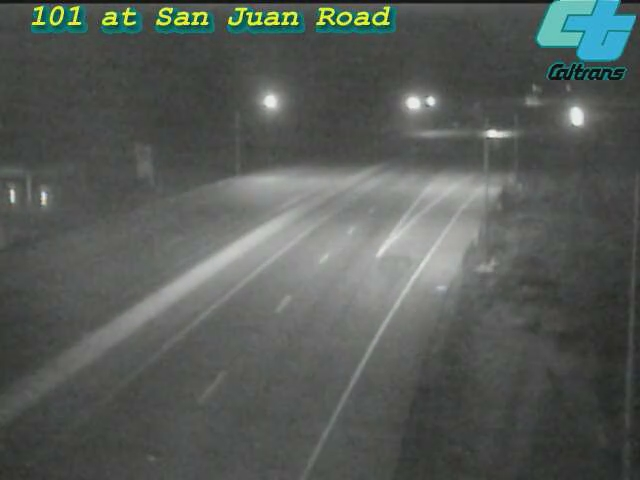vehicle: (469, 109, 519, 159), (548, 91, 598, 141)
